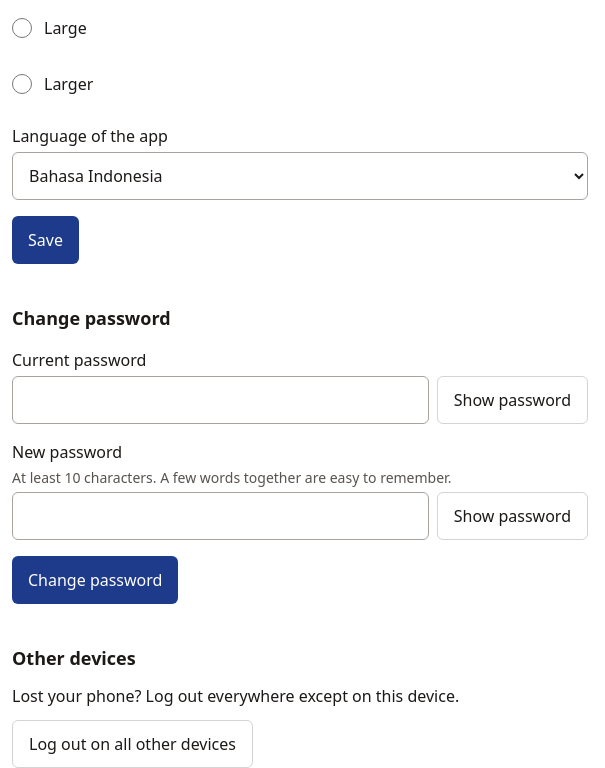
it: ProfilePage › logs out on other devices
(page scrolled)
Click the button "Log out on all other devices".
click(132, 744)  # box [12, 720, 253, 767]
(page scrolled)
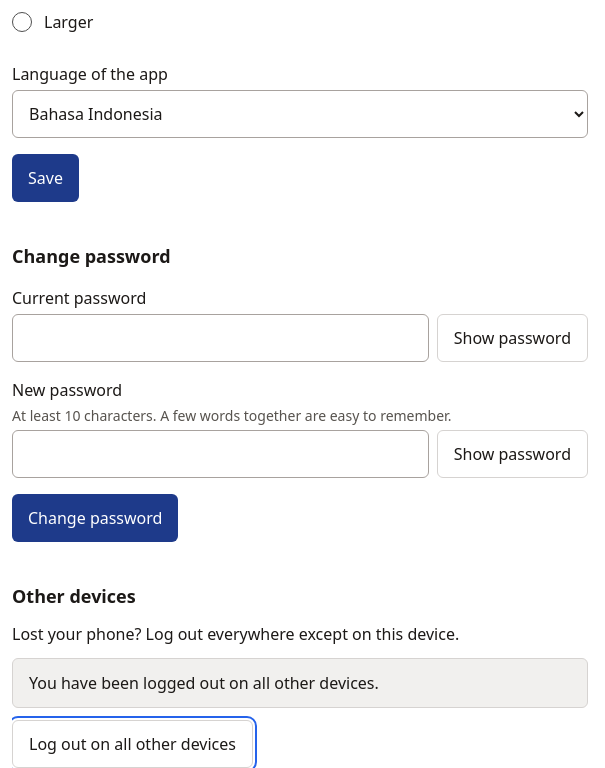
Check: the text "You have been logged out on all other devices." is shown, box [12, 658, 588, 708]
